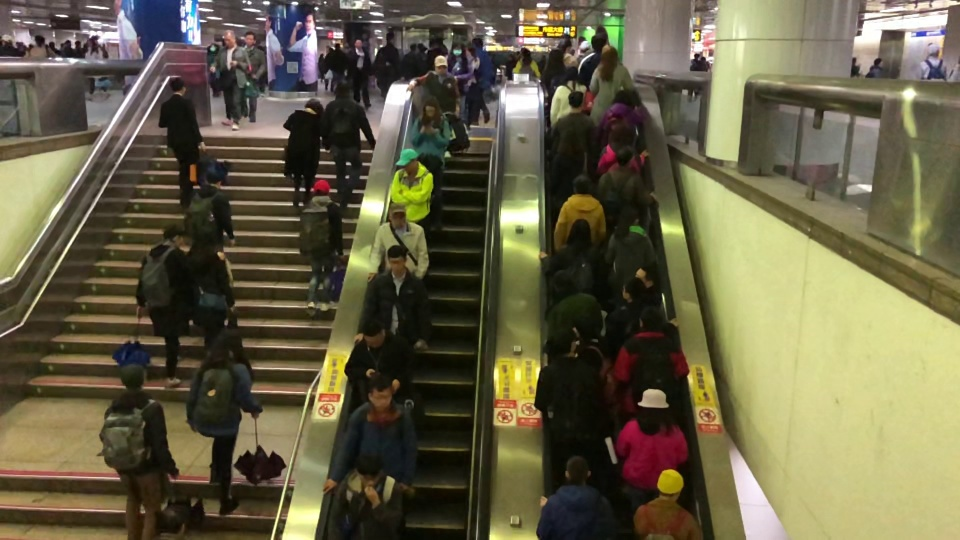person_head: (636, 385, 668, 426), (356, 447, 385, 489), (366, 372, 394, 411), (571, 306, 599, 342), (360, 314, 387, 351), (656, 468, 685, 501), (214, 329, 244, 358), (394, 147, 421, 177), (565, 454, 591, 485), (567, 216, 593, 246), (546, 330, 573, 357), (120, 363, 145, 391), (608, 126, 636, 151), (387, 243, 408, 275), (550, 267, 574, 295), (637, 307, 662, 333), (386, 203, 408, 232), (193, 228, 220, 251), (599, 46, 619, 76), (556, 127, 580, 152), (621, 279, 645, 304), (634, 264, 657, 288), (164, 224, 185, 247), (611, 88, 634, 108), (423, 95, 441, 120), (564, 64, 585, 85), (573, 173, 593, 195), (621, 204, 640, 227), (615, 145, 633, 168), (311, 179, 331, 197), (169, 76, 186, 97), (204, 170, 222, 189), (332, 82, 351, 100), (590, 34, 608, 53), (304, 98, 324, 115), (546, 49, 562, 70), (568, 92, 585, 111), (434, 54, 448, 77), (556, 37, 572, 55), (450, 40, 465, 58), (926, 43, 941, 59), (243, 30, 256, 47), (223, 30, 236, 46), (464, 40, 476, 57), (580, 39, 591, 53), (385, 30, 395, 45), (472, 38, 484, 50), (2, 33, 13, 45), (35, 34, 45, 46), (521, 47, 530, 60), (354, 38, 364, 49), (873, 57, 883, 68), (87, 38, 95, 47), (692, 52, 700, 60), (210, 42, 217, 51), (409, 42, 416, 51), (851, 55, 857, 65), (700, 55, 706, 63), (334, 42, 340, 49)
person_vbox: (134, 225, 225, 388), (98, 364, 180, 540), (186, 330, 263, 516), (320, 370, 418, 504), (351, 242, 420, 402), (533, 331, 606, 467), (368, 205, 429, 350), (613, 385, 689, 497), (322, 449, 410, 540), (614, 306, 688, 414), (320, 81, 378, 207), (343, 314, 413, 416), (536, 452, 617, 540), (185, 230, 236, 357), (158, 76, 206, 209), (603, 279, 679, 363), (299, 177, 344, 316), (539, 218, 606, 303), (410, 97, 450, 231), (595, 147, 654, 237), (631, 469, 705, 540), (408, 56, 460, 157), (603, 203, 657, 291), (545, 269, 604, 346), (283, 98, 324, 206), (552, 175, 608, 252), (589, 46, 635, 139), (571, 314, 617, 406), (210, 30, 251, 131), (184, 172, 235, 250), (391, 149, 432, 243), (550, 129, 598, 204), (545, 89, 595, 157), (595, 87, 652, 146), (597, 124, 650, 179), (550, 68, 587, 128), (242, 30, 266, 122), (445, 40, 469, 129), (374, 32, 401, 104), (578, 33, 611, 91), (83, 38, 111, 101), (347, 39, 372, 109), (470, 47, 492, 124), (542, 50, 577, 95), (464, 41, 479, 127), (915, 42, 947, 82), (204, 43, 222, 98), (512, 47, 541, 80), (330, 41, 348, 93), (685, 52, 700, 103), (554, 37, 578, 68), (400, 43, 417, 80), (31, 34, 55, 58), (0, 32, 23, 57), (866, 57, 885, 78), (849, 55, 862, 78), (700, 54, 709, 73)
